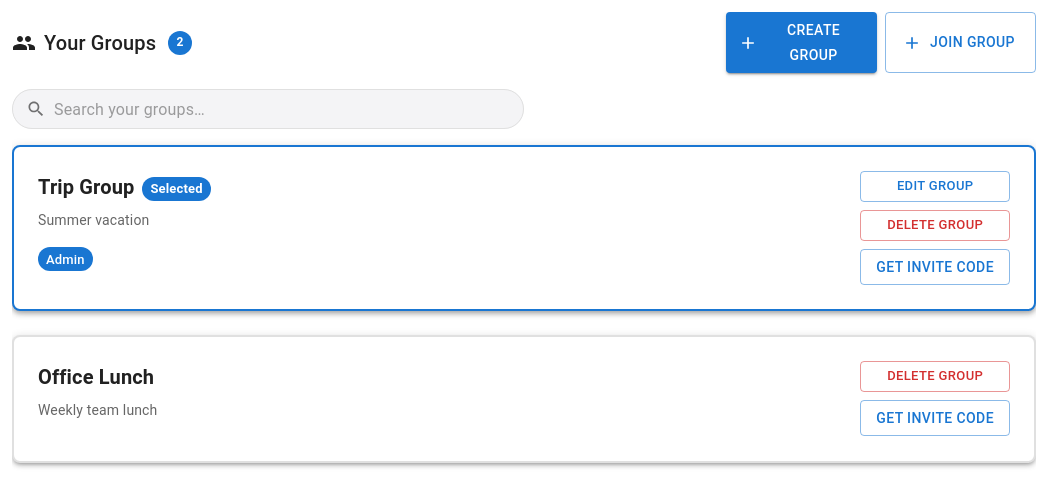
Test: GroupManagement - Core Functions › Group Search › should match on description as well as name
Click the field named "Search groups" at coordinates (266, 109), box [54,89,478,129]
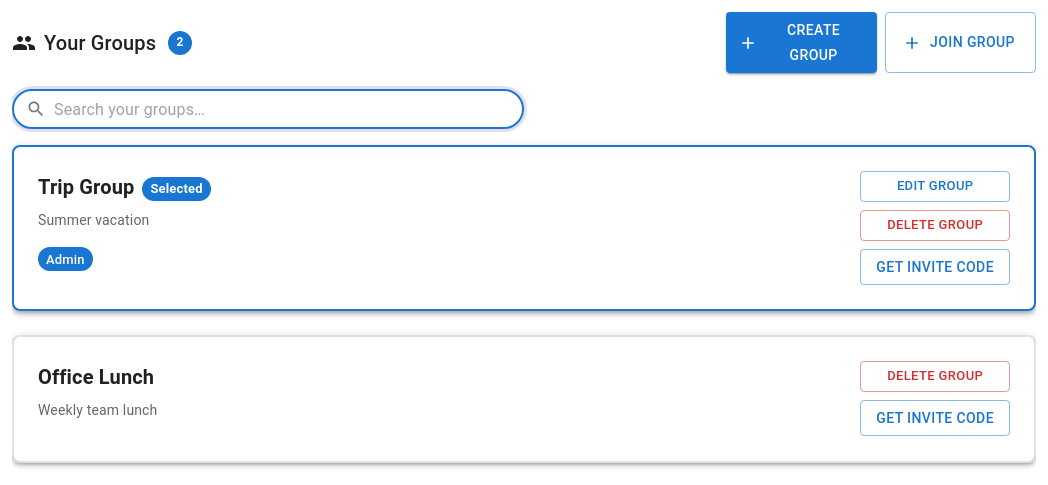
Type keys "vacation"
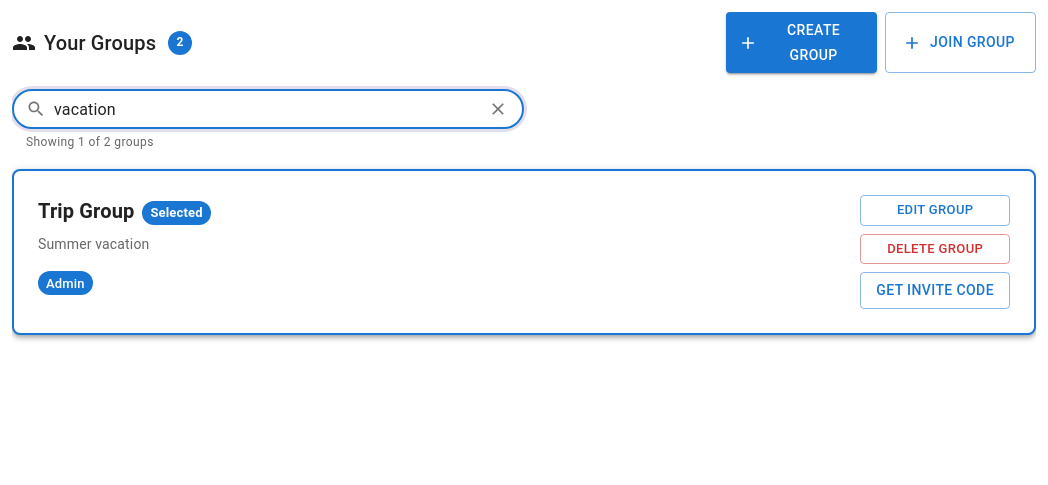
Expected: the heading "Trip Group Selected" is shown, [38,199,211,225]
Expected: the heading "Office Lunch" is gone
